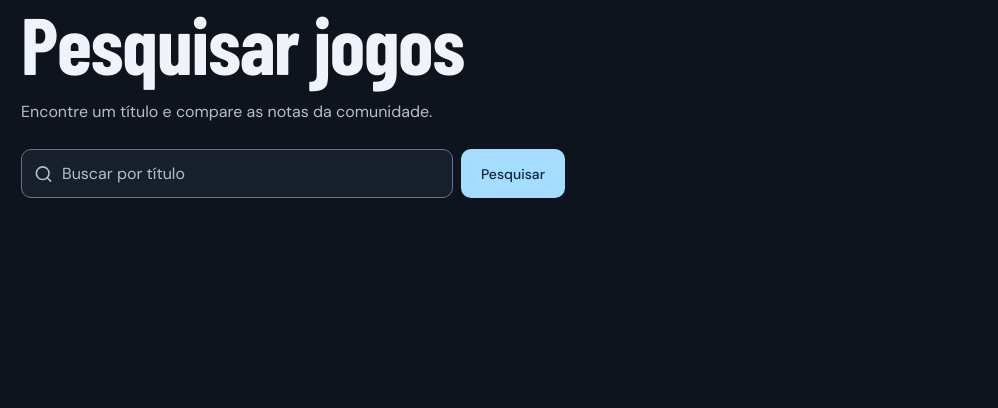
Test: PaginaPesquisa › mostra resultados, média e link para detalhes
Type "ecos" into the search field named "Nome do jogo" at (237, 174), box [21,149,453,198]
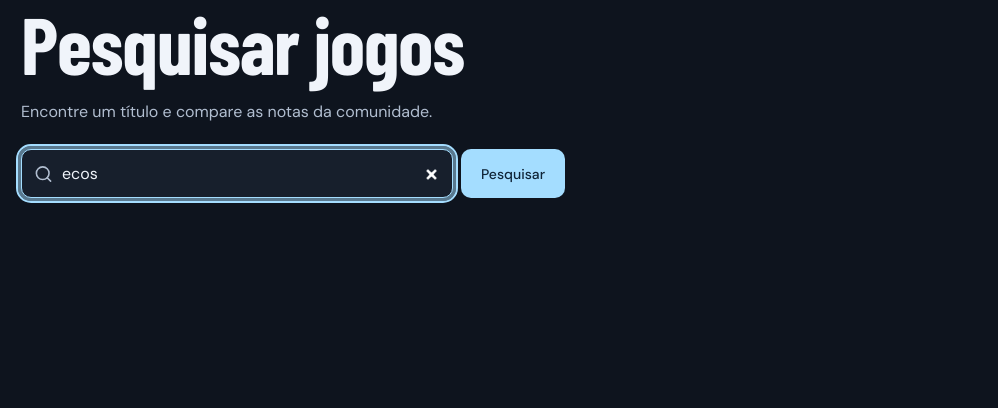
Click the button "Pesquisar" at (513, 174), box [461,149,565,198]
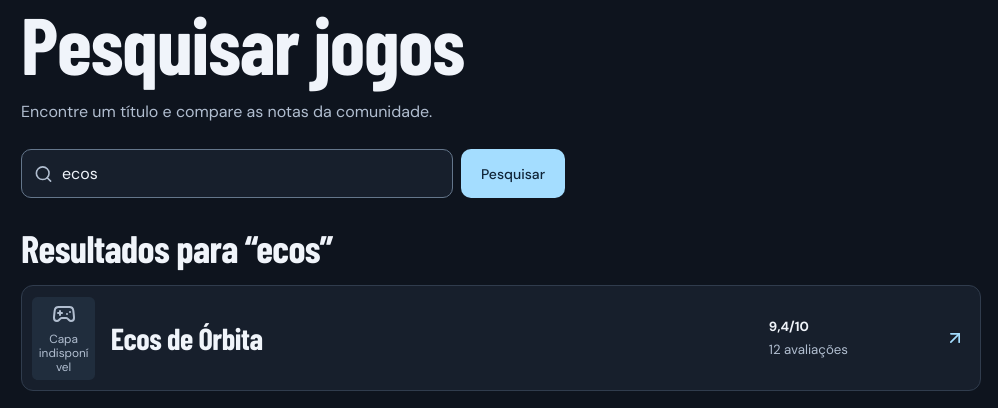
Check: the text "9,4/10" is shown, box [769,318,809,335]
Check: the text "12 avaliações" is shown, box [769,341,848,358]
